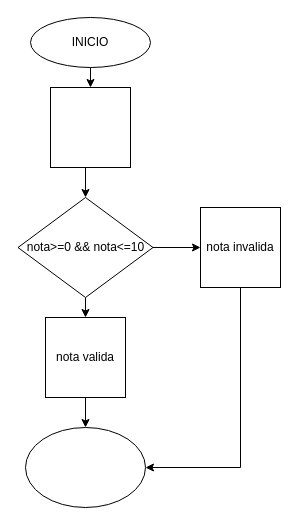
The diagram is 298 pixels wide and 525 high, and some of its shapes have lost their labels. The shapes that lost their labels are listed below. From the top down, each one's box as (x1, y1, x2, y2) in pixels, then its label:
(50, 86, 130, 168): recebe nota
(24, 426, 146, 508): FIM
